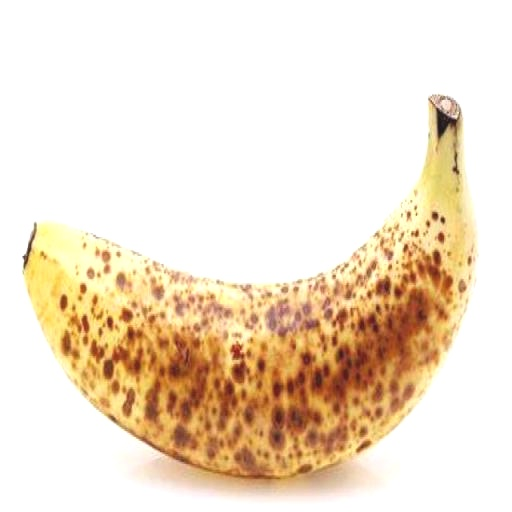fruit: (24, 96, 476, 476)
